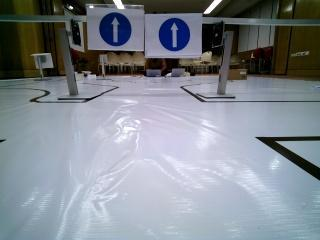straight: (85, 5, 144, 52), (145, 14, 201, 59)
